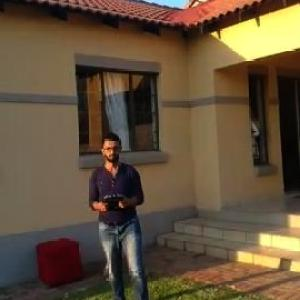follow: (84, 125, 154, 299)
